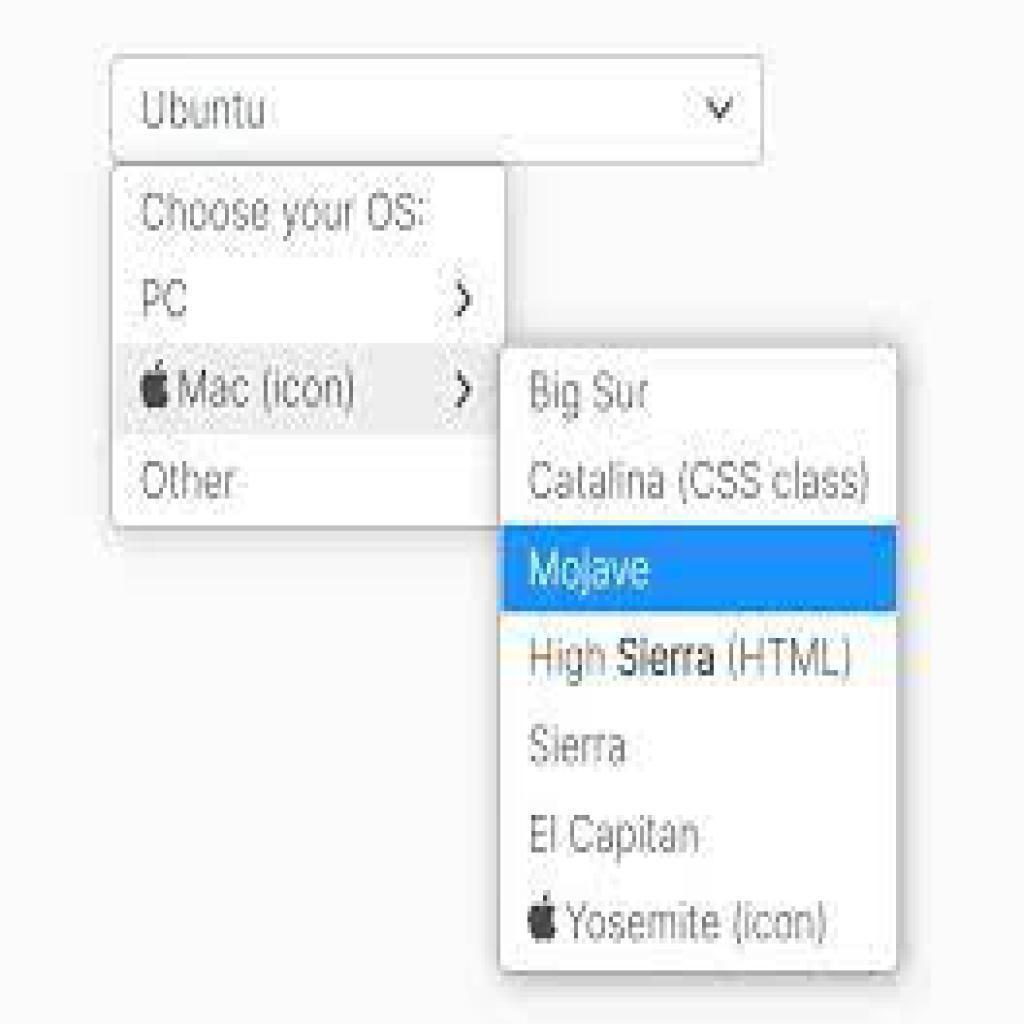dropdown: (115, 65, 760, 154)
